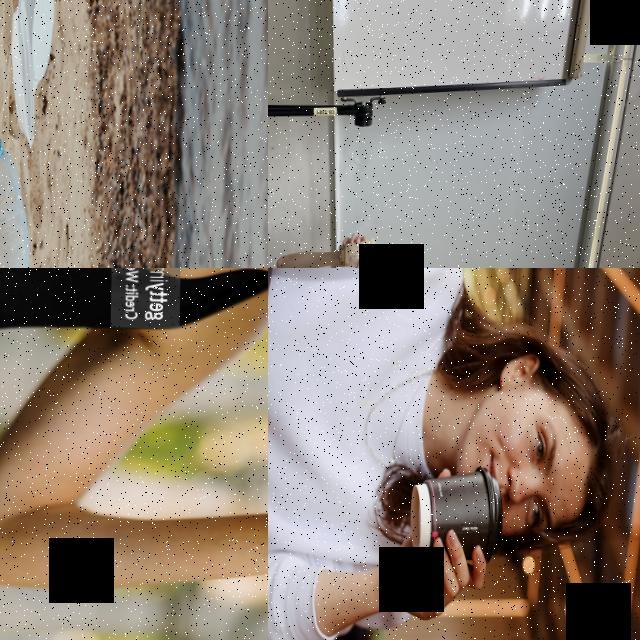bottle: (0, 132, 42, 268)
cup: (410, 462, 504, 564), (336, 234, 376, 268)
